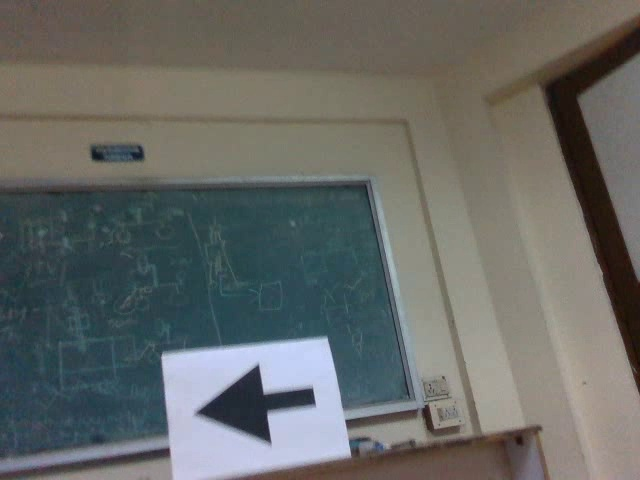Left: (185, 357, 317, 449)
